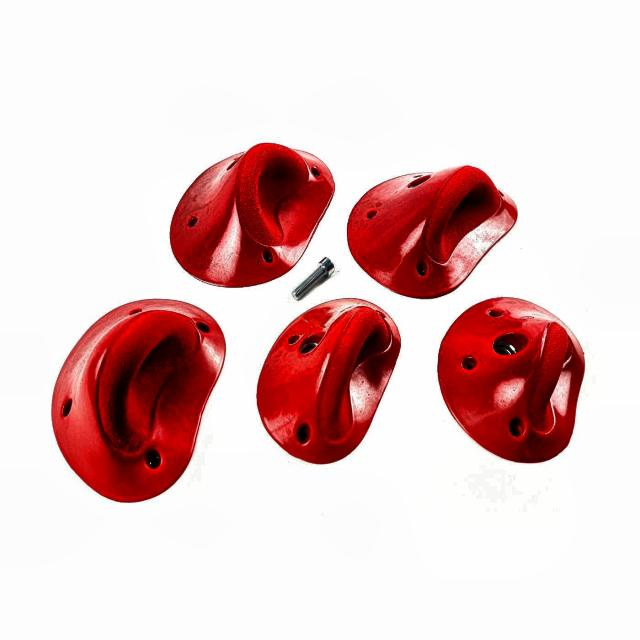Hold: (47, 294, 222, 508), (434, 299, 582, 471), (255, 299, 399, 471), (345, 170, 520, 300), (177, 136, 329, 284)
